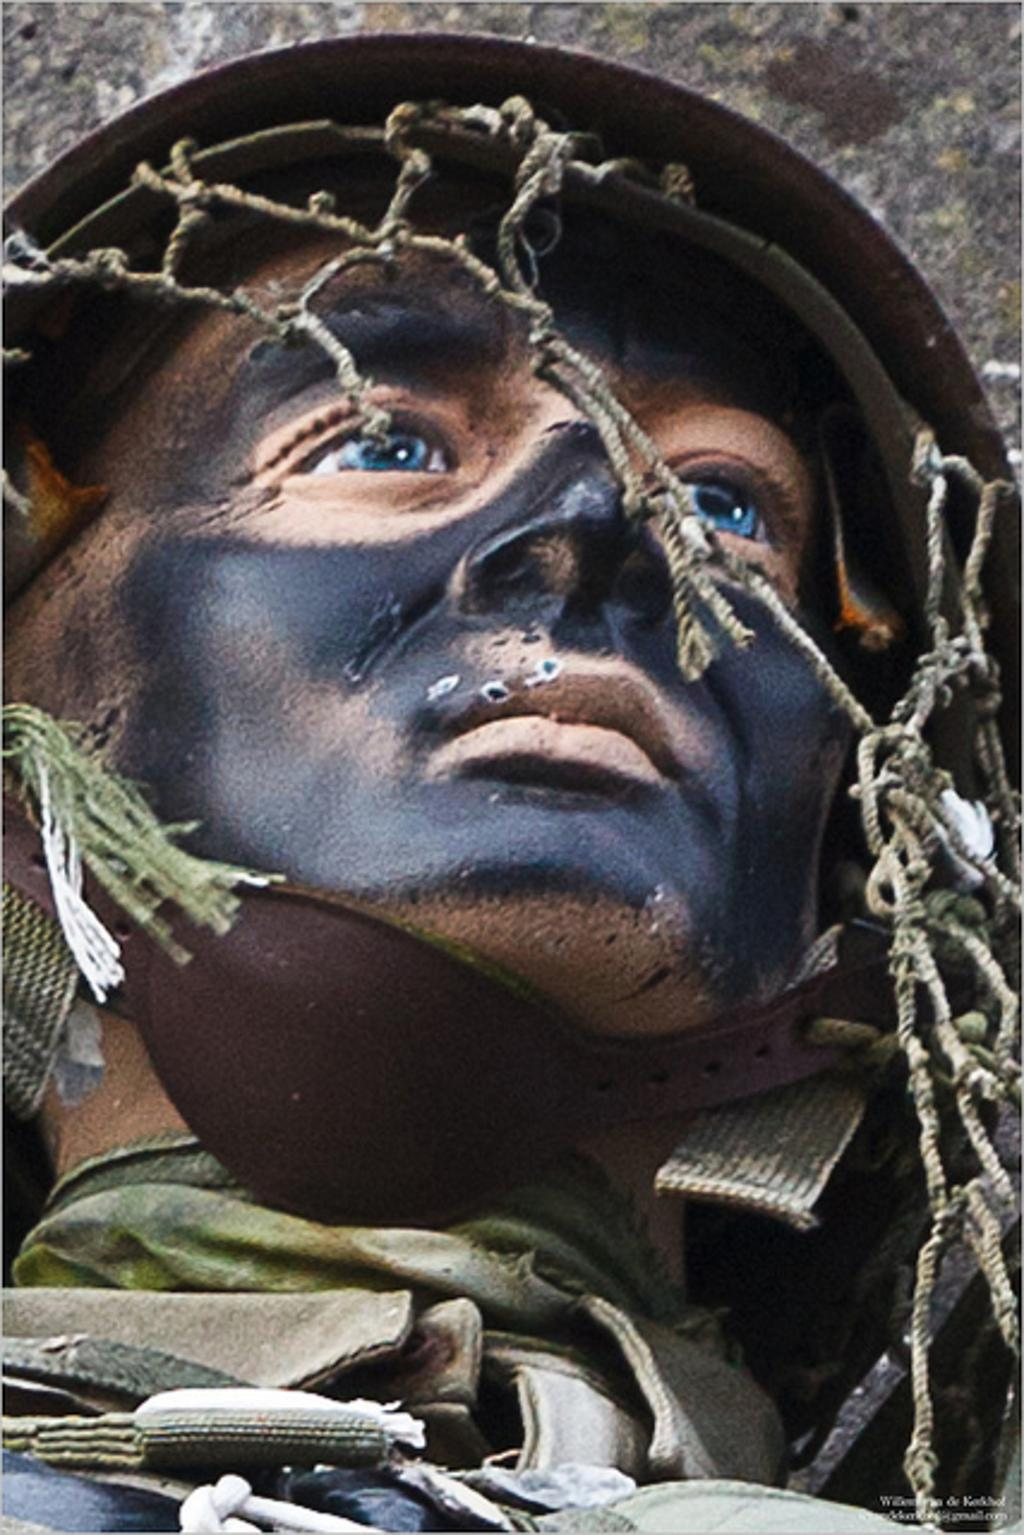face: (193, 226, 846, 984)
